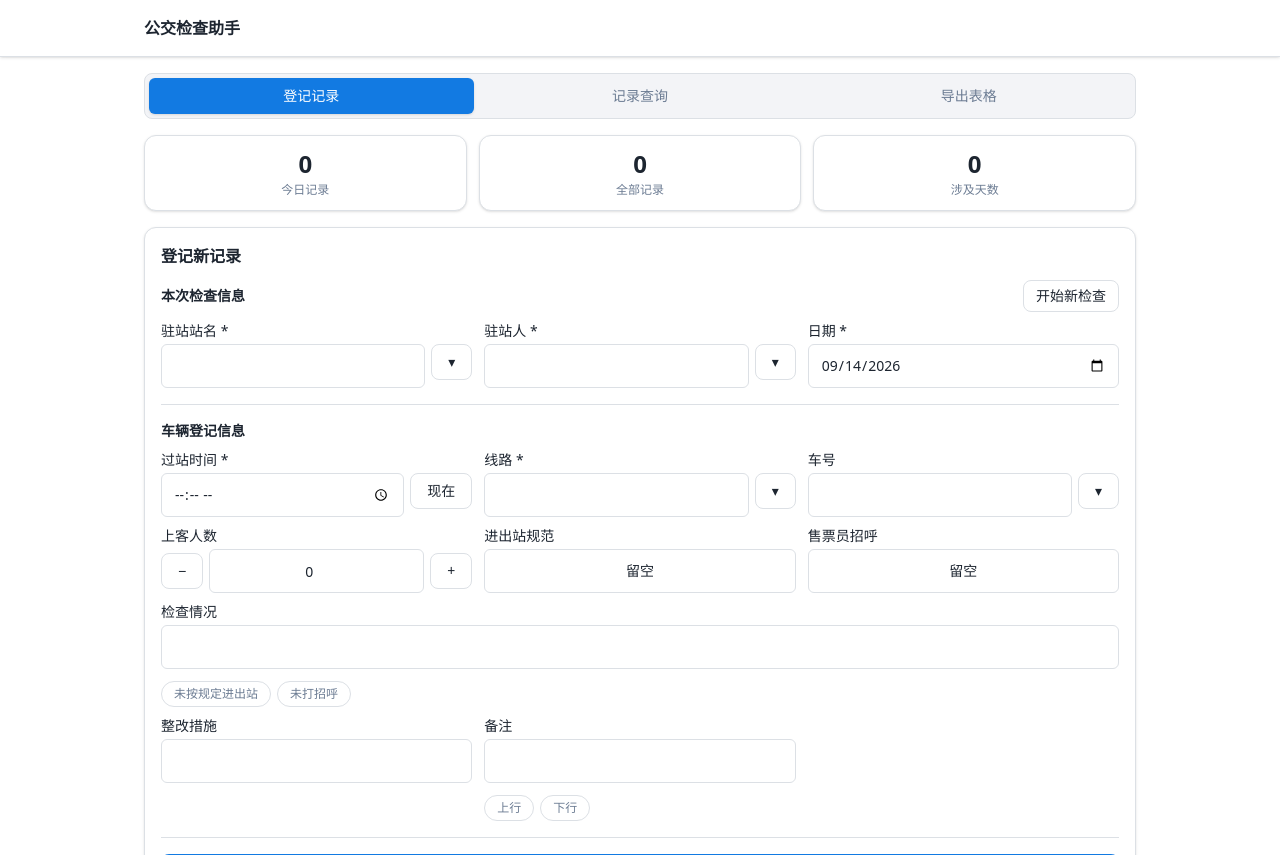
Test: 驻站登记 › 线路选择弹层支持车队两级浏览
Click the button named "选择线路".
click(775, 491)  # box 755,473 -> 796,509
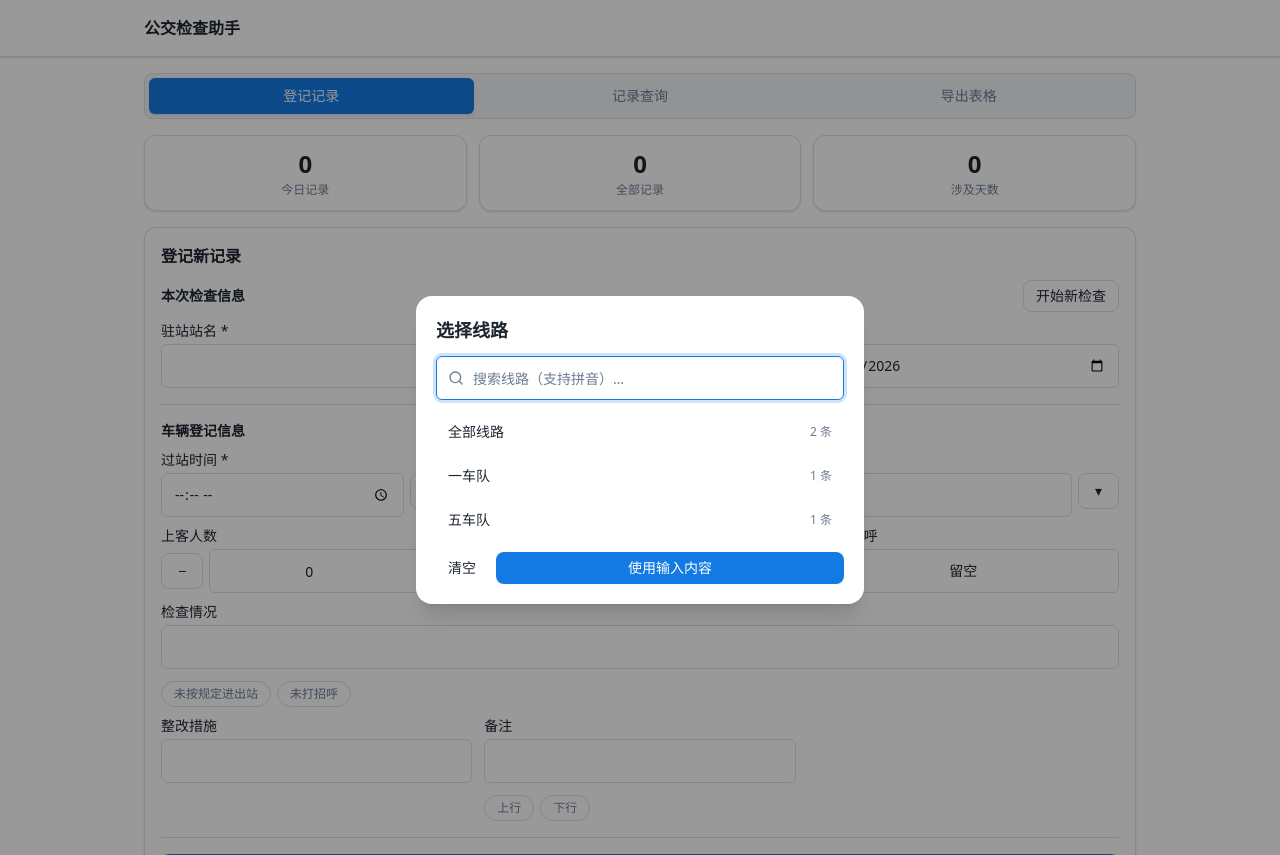
expect the text "全部线路" is shown: met, box 448,422 -> 504,442
expect the text "一车队" is shown: met
Click the text "一车队".
click(469, 476)  # box 448,466 -> 490,486
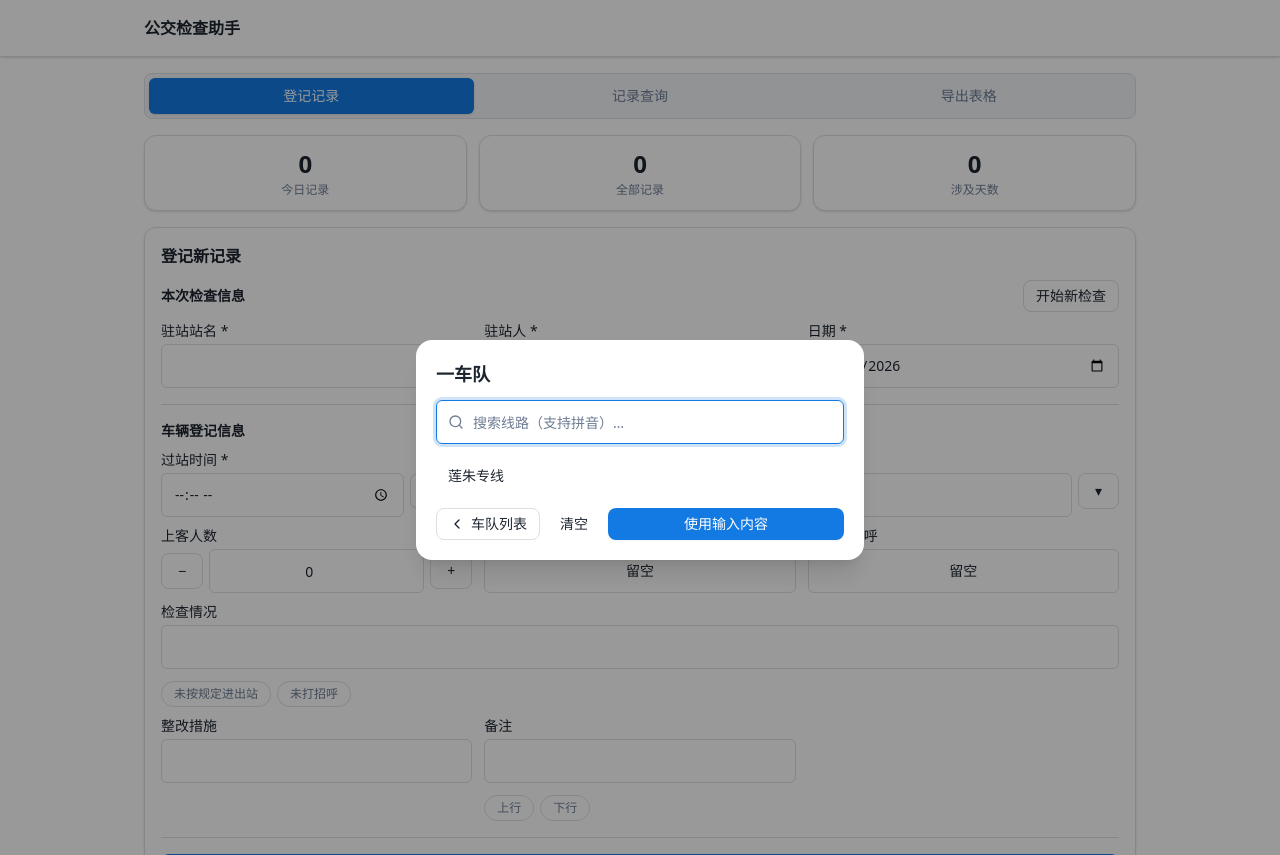
expect the button "莲朱专线" is shown: met, box 436,456 -> 844,496
